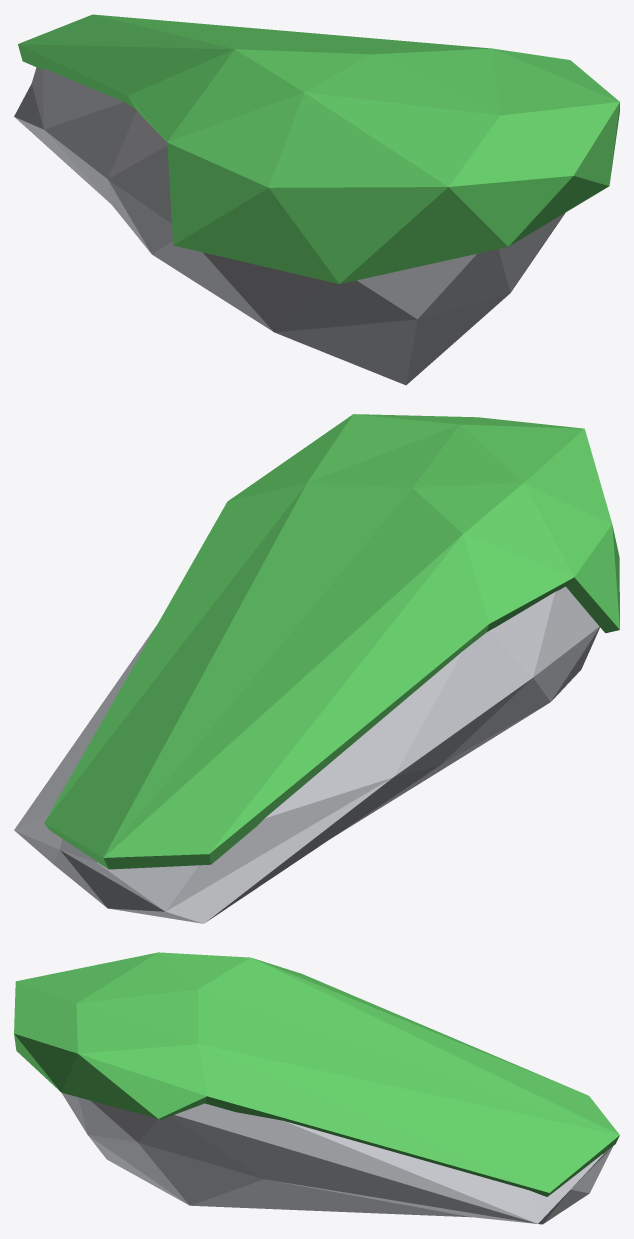
File: Big stone4.fbx
3 views of the same model, one above another, from view 1: azimuth 30°, elevation 25°; view 2: azimuth 150°, elevation 25°; view 3: azimuth 270°, elevation 25° (orthographic). The views are drawn at different scales.
Visible parts, largest first — view 1: Big stone4; view 2: Big stone4; view 3: Big stone4.
Boxes of the visible parts, x1,y1,x2,y2 form: Big stone4: (14, 14, 619, 385); Big stone4: (14, 414, 619, 923); Big stone4: (14, 952, 619, 1224).
Size of the model in its own units: 770 by 516 by 1391.
